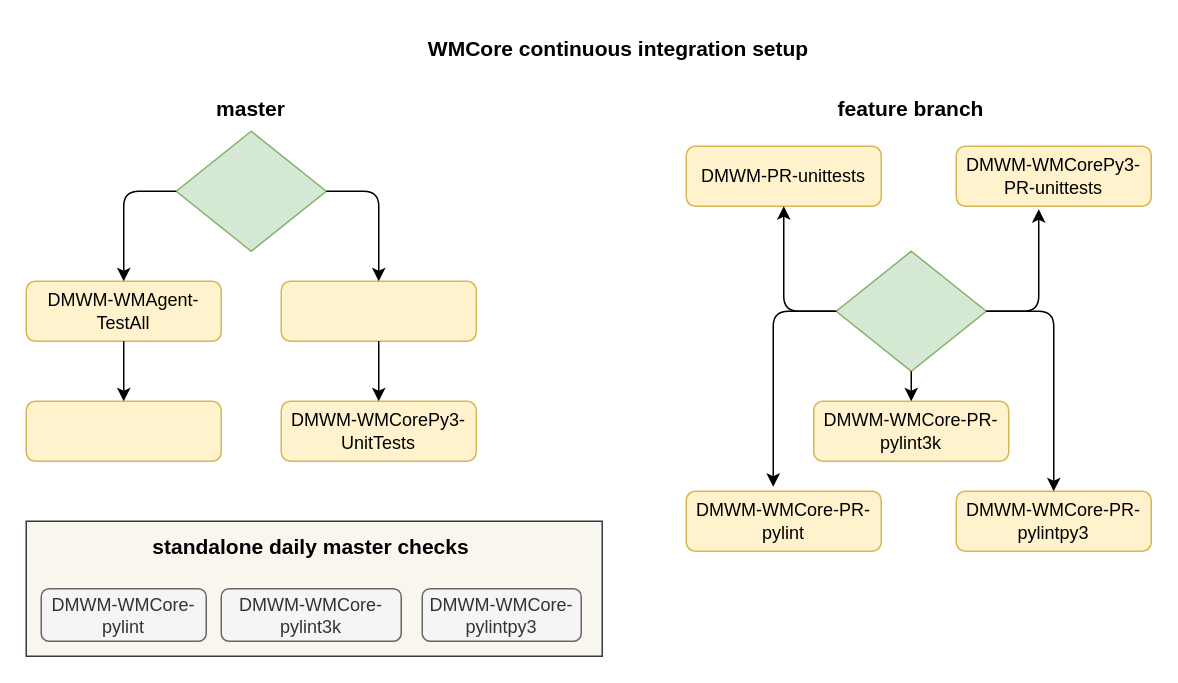
Some shapes in this 1178 by 683 pixel diagram are drawn without their labels. Here are the shapes that lost their labels. From the top down, the centre of each, then its label:
At [250,190]: "DMWM-WMCore-TagBaseline".
At [378,310]: "DMWM-WMAgentPy3-TestAll".
At [910,310]: "DMWM-WMCore-PR-test".
At [123,430]: "DMWM-WMCore-UnitTests".
